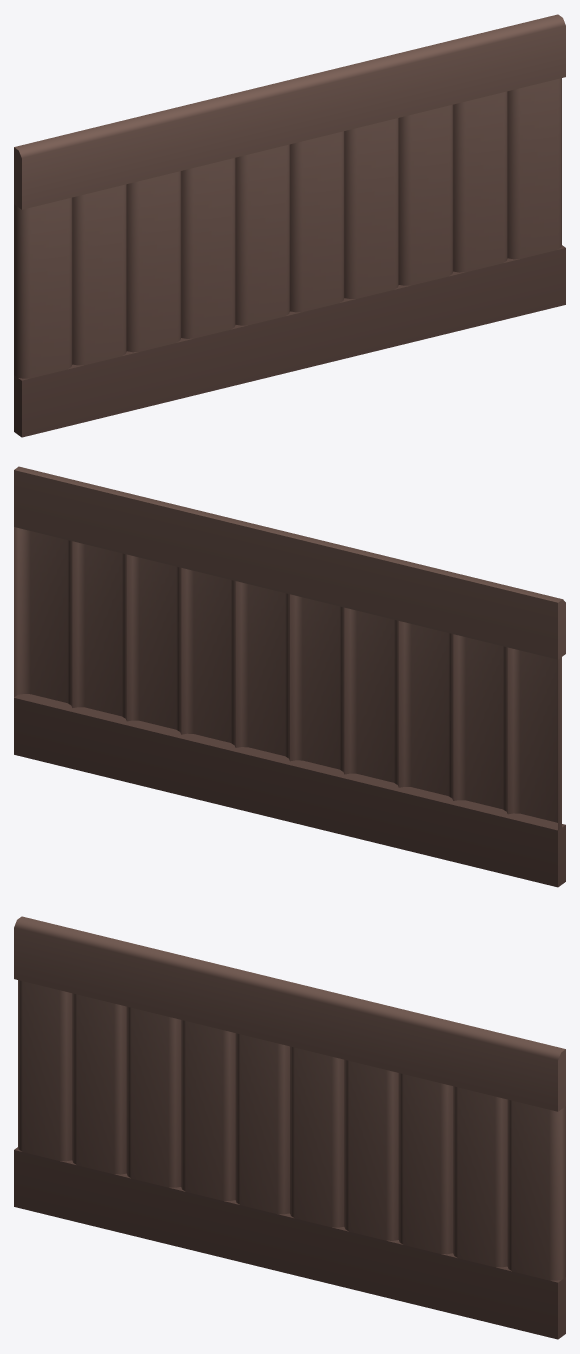
File: Panel_Brown_02.glb
3 renders of one model, top to bottom at view 1: azimuth 30°, elevation 25°; view 2: azimuth 150°, elevation 25°; view 3: azimuth 330°, elevation 25°, orthographic.
Visible parts, largest first — view 1: Panel_Brown_02; view 2: Panel_Brown_02; view 3: Panel_Brown_02.
Boxes of the visible parts, x1=… form: Panel_Brown_02: x1=14, y1=14, x2=565, y2=437; Panel_Brown_02: x1=14, y1=466, x2=565, y2=887; Panel_Brown_02: x1=14, y1=916, x2=565, y2=1339.
Size of the model in its own units: 2 by 1 by 0.05.
1 material, 1 textured.
